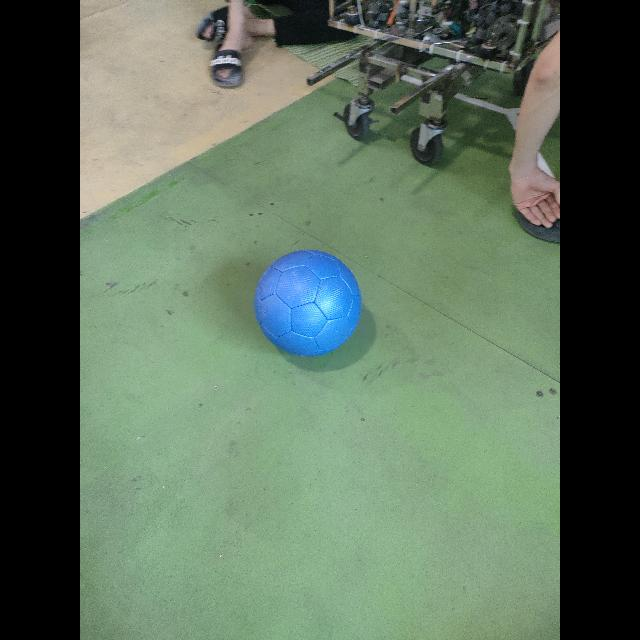B: (253, 250, 365, 360)
